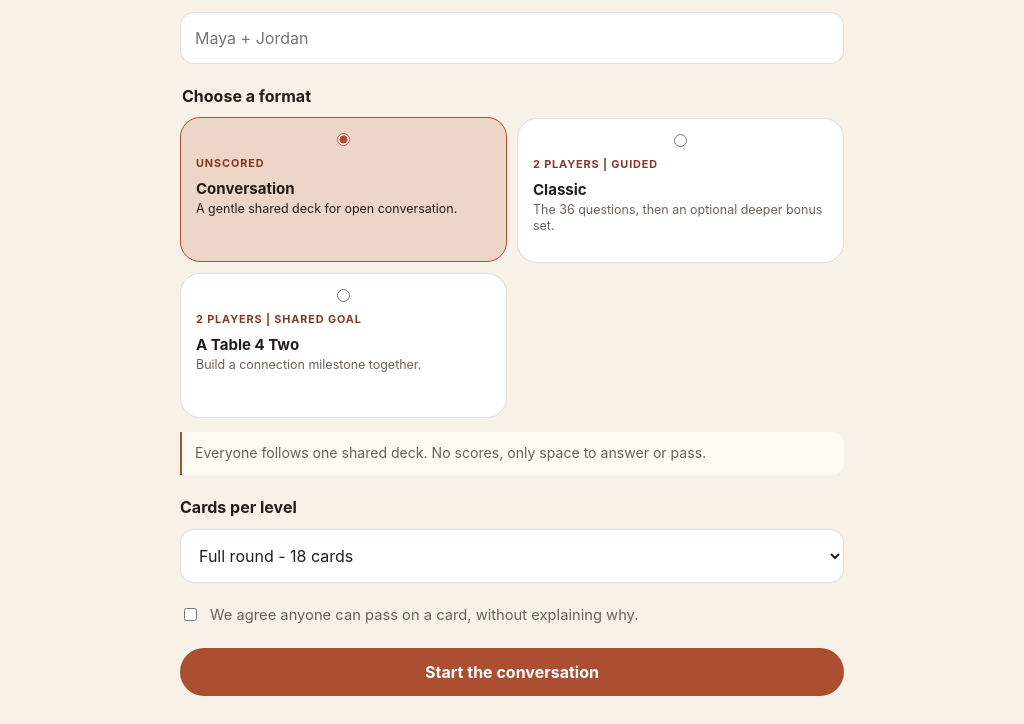
starting a conversation on one phone › moves from setup to the first card
(page scrolled)
Step 1. Click the checkbox labelled "We agree anyone can pass on a card, without explaining why." → (190, 614), box [184,608,197,621]
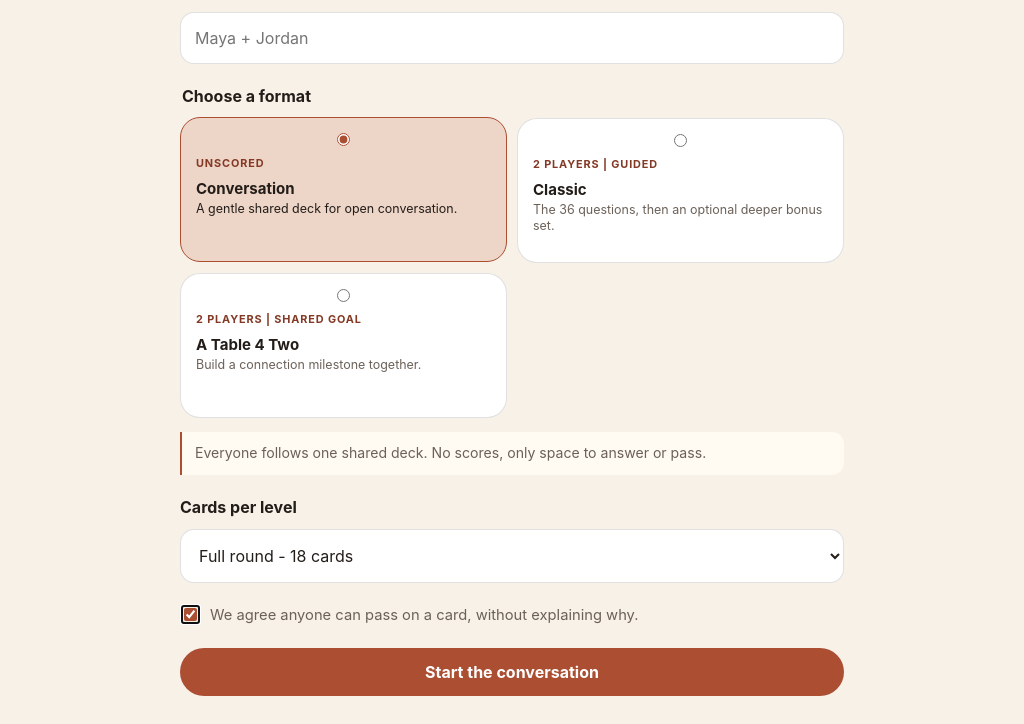
Step 2. Click the button "Start the conversation" → (512, 672), box [180,648,844,696]
(page scrolled)
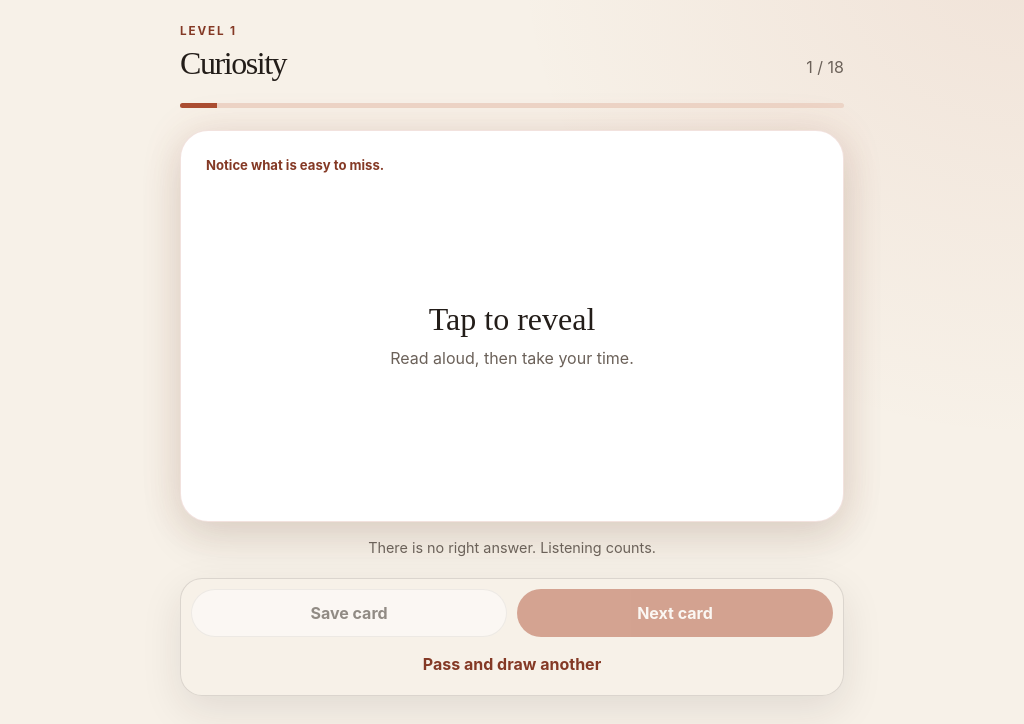
expect the heading "Curiosity" is shown: met, box [180,46,286,81]
expect the text "1 / 18" is shown: met, box [806,57,844,77]
expect the text "Tap to reveal" is shown: met, box [429,300,595,338]
